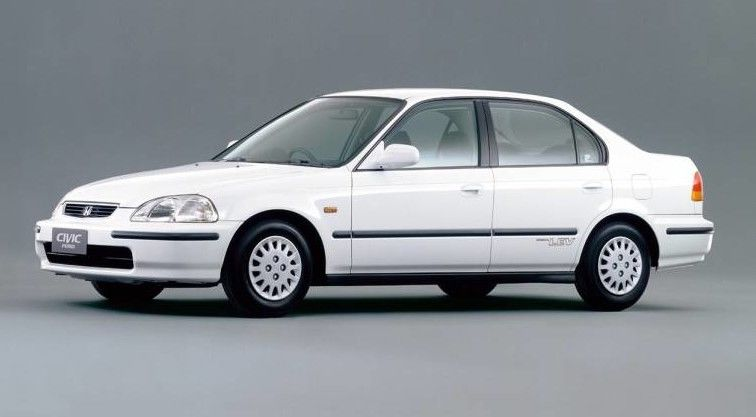sedan: (32, 85, 717, 318)
